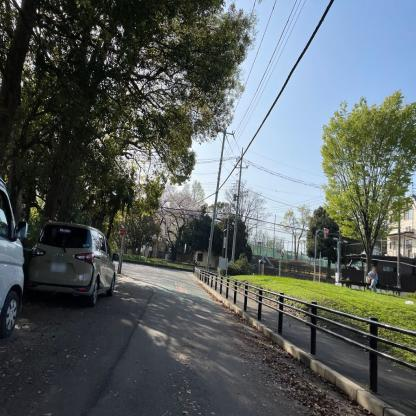Someiyoshino: (152, 172, 210, 240)
